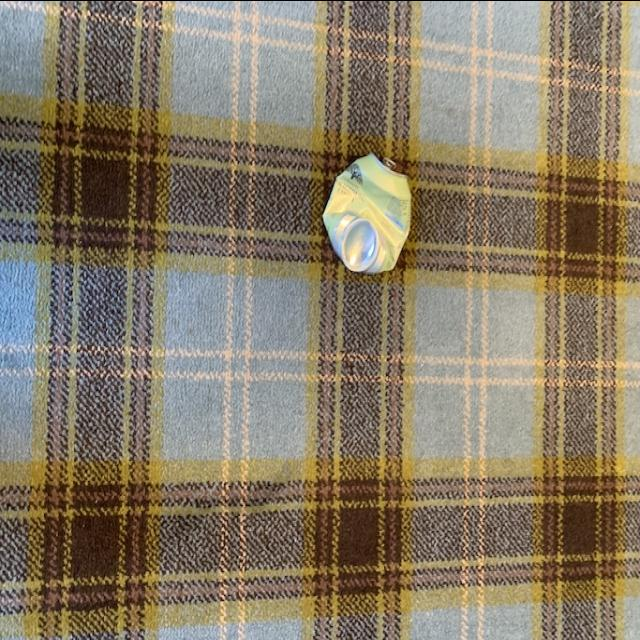litter: (312, 144, 416, 274)
